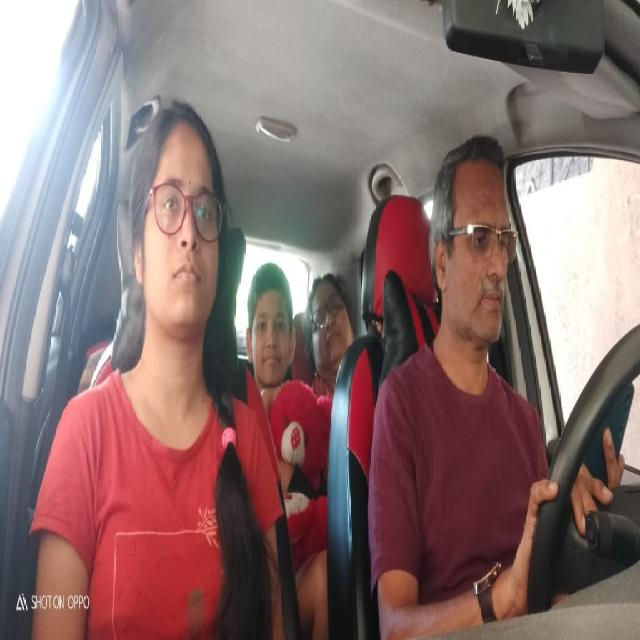mobile: (586, 384, 637, 497)
person: (128, 98, 237, 348), (429, 131, 518, 355), (246, 261, 302, 387), (307, 268, 357, 382)
